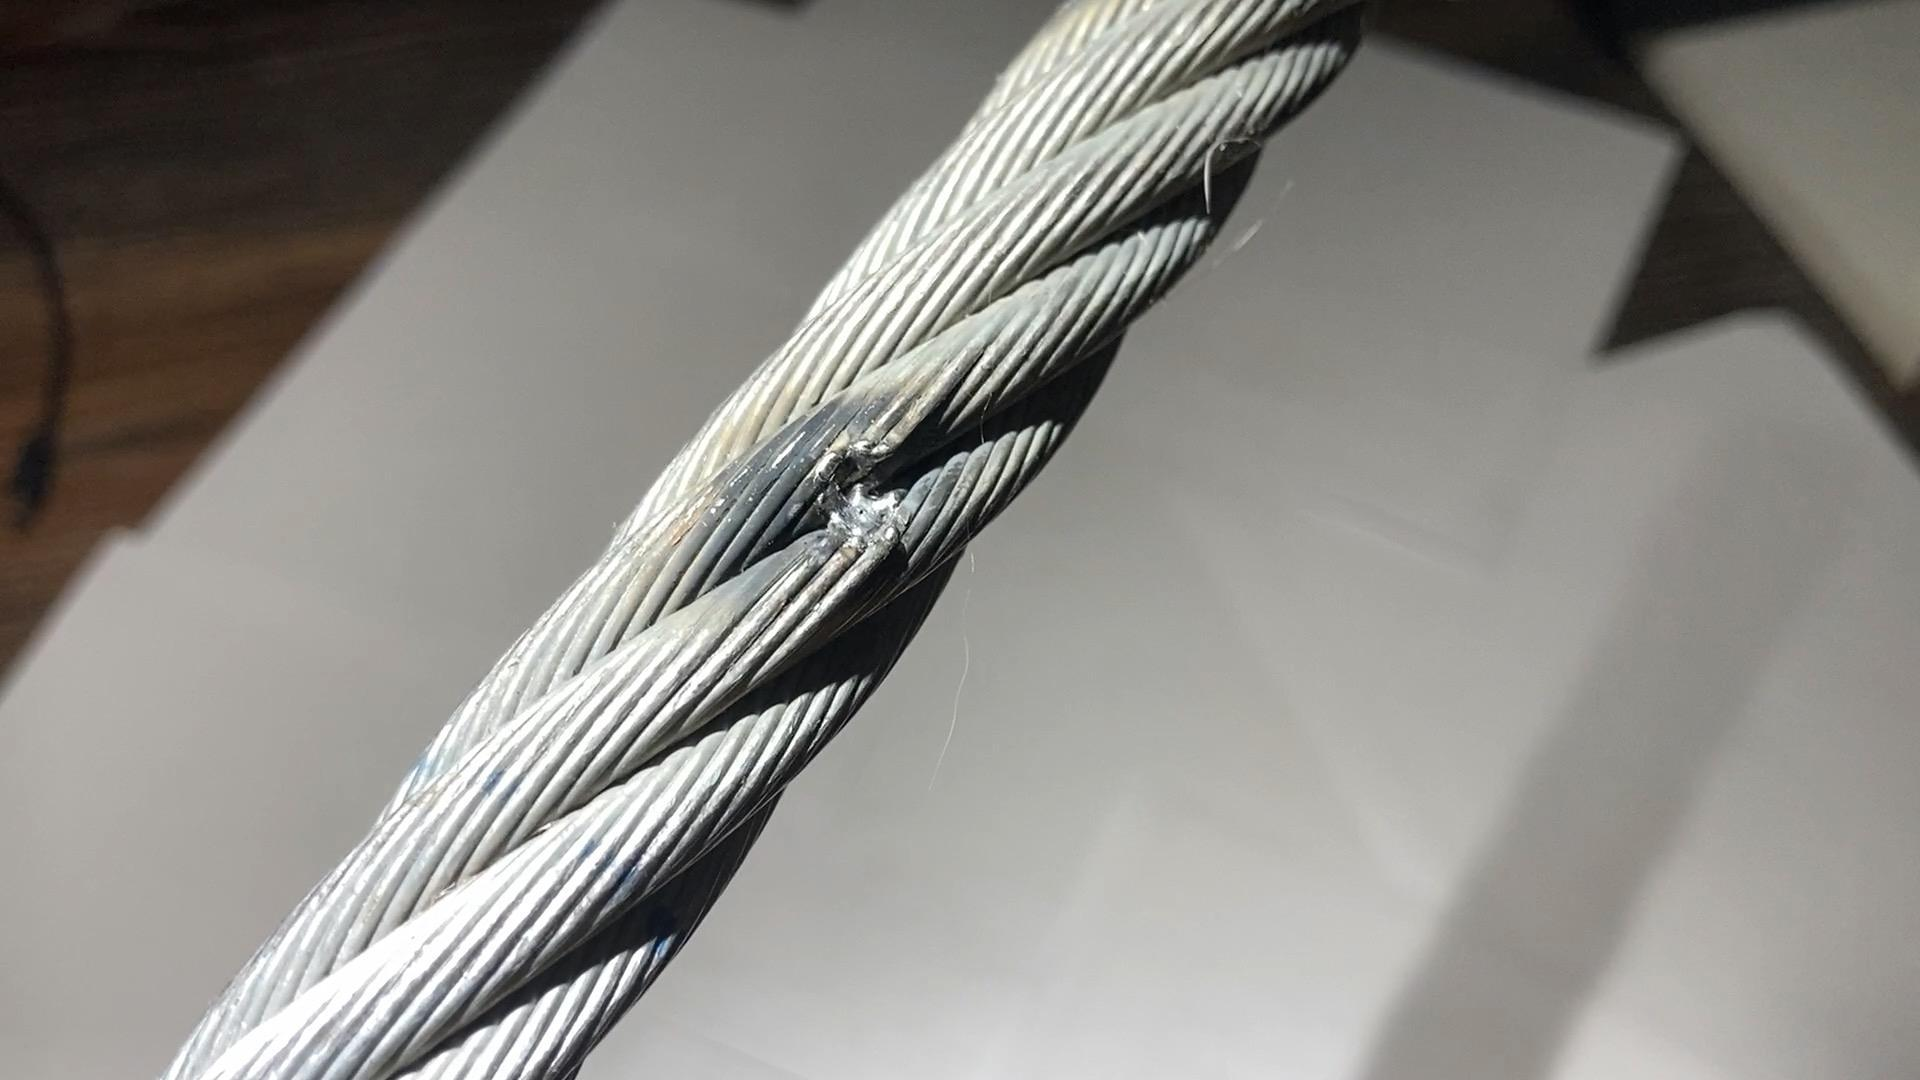thunderbolt: (785, 410, 951, 554)
